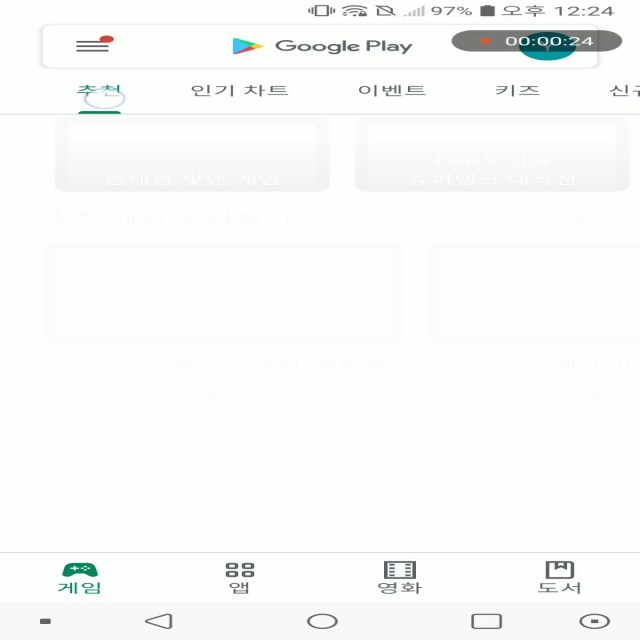Cursor: (83, 88, 128, 111)
